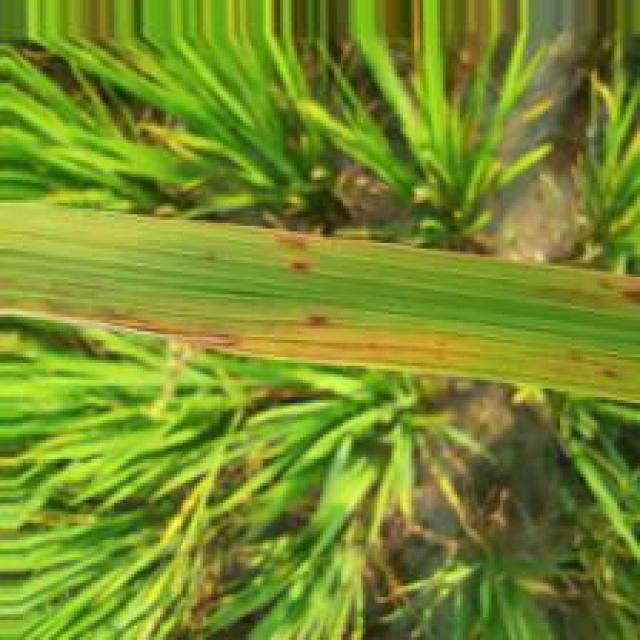Brown_Spot: (36, 301, 254, 353), (616, 284, 640, 307), (306, 314, 330, 332), (292, 258, 310, 276)
